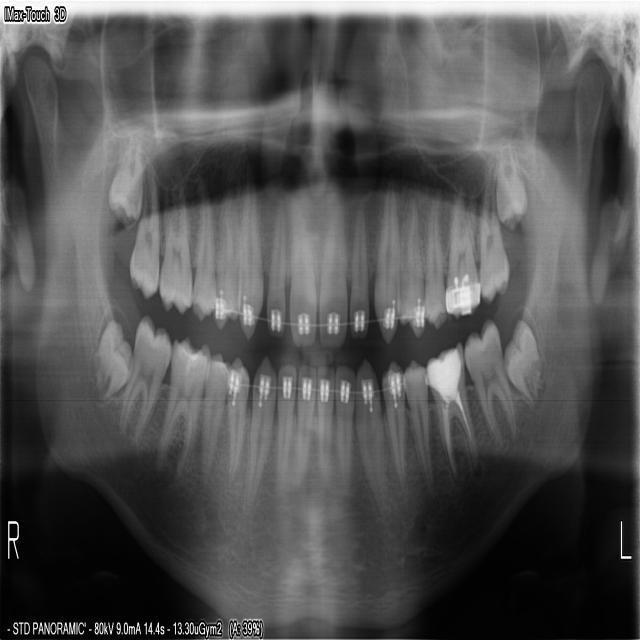LCD: (353, 354, 391, 520)
LCU: (370, 175, 400, 348)
LID: (334, 362, 354, 499), (315, 362, 334, 489)
LIU: (316, 198, 347, 352), (346, 203, 369, 341)
LMD: (425, 336, 477, 486), (462, 314, 516, 453), (502, 314, 545, 412)
LMU: (445, 182, 481, 321), (477, 180, 512, 307), (496, 137, 529, 232)
LPMD: (405, 353, 433, 496), (379, 354, 405, 494)
LPMU: (397, 182, 424, 341), (425, 186, 447, 336)
RCD: (243, 347, 275, 513)
RCU: (234, 156, 263, 346)
RID: (293, 361, 315, 490), (276, 361, 296, 497)
RIU: (287, 197, 316, 350), (263, 190, 285, 342)
RMD: (152, 331, 209, 482), (116, 311, 170, 449), (90, 315, 131, 406)
RMU: (156, 182, 191, 318), (127, 160, 159, 303), (104, 130, 141, 233)
RPMD: (197, 348, 228, 495), (225, 352, 250, 486)
RPMU: (188, 176, 213, 322), (211, 183, 235, 333)
